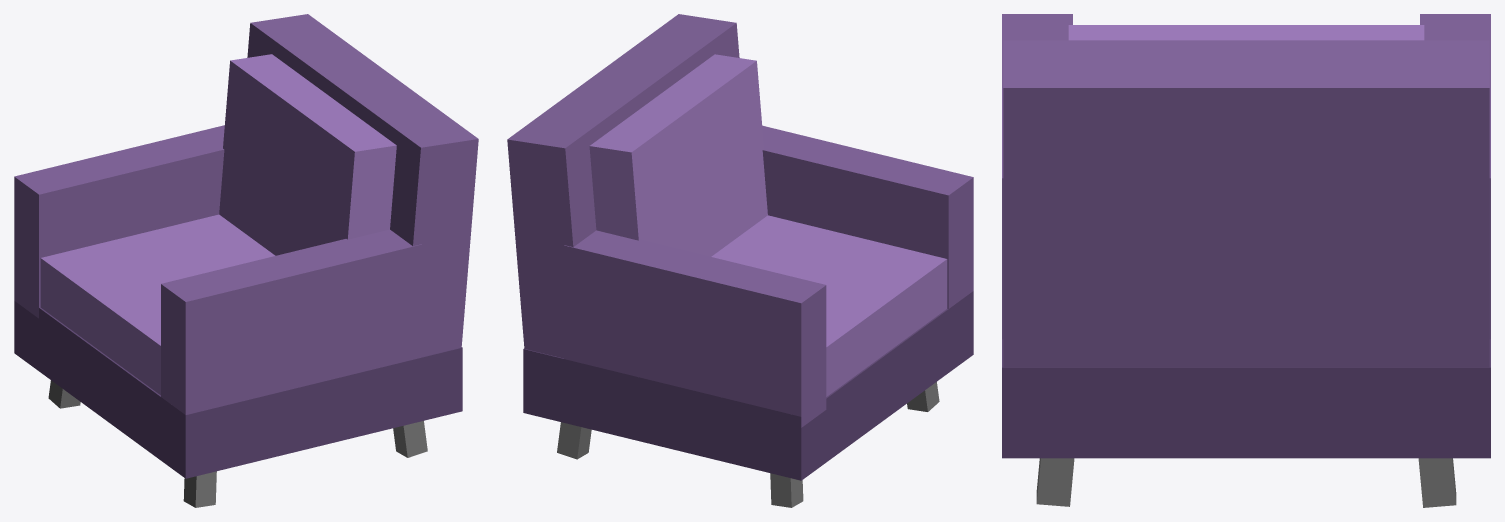
The model's file is vegas-chair.glb.
3 views of the same model, side by side, from view 1: azimuth 30°, elevation 25°; view 2: azimuth 150°, elevation 25°; view 3: azimuth 270°, elevation 25° (orthographic). The views are drawn at different scales.
Visible parts, largest first — view 1: Roblox reference geometry; view 2: Roblox reference geometry; view 3: Roblox reference geometry.
Boxes of the visible parts, x1,y1,x2,y2 form: Roblox reference geometry: [14, 14, 478, 507]; Roblox reference geometry: [507, 14, 973, 507]; Roblox reference geometry: [1002, 14, 1490, 507].
Bounding box in the file's own units: 4.13 × 4.31 × 4.18.
